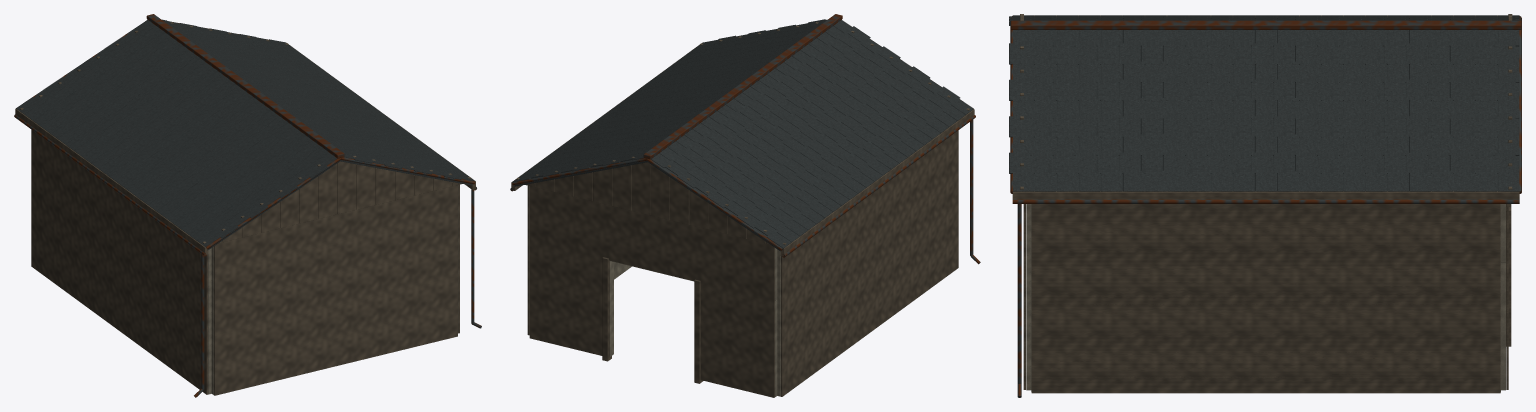
The model's file is Barn_LOD0.fbx.
3 views of the same model, side by side, from view 1: azimuth 30°, elevation 25°; view 2: azimuth 150°, elevation 25°; view 3: azimuth 270°, elevation 25° (orthographic). The views are drawn at different scales.
Visible parts, largest first — view 1: Barn_LOD0; view 2: Barn_LOD0; view 3: Barn_LOD0.
Part boxes in pixels (box(x1,y1,x2,y2)): Barn_LOD0: box(14, 14, 481, 397); Barn_LOD0: box(510, 14, 980, 397); Barn_LOD0: box(1009, 14, 1521, 397).
Size of the model in its own units: 945 by 687 by 1092.
